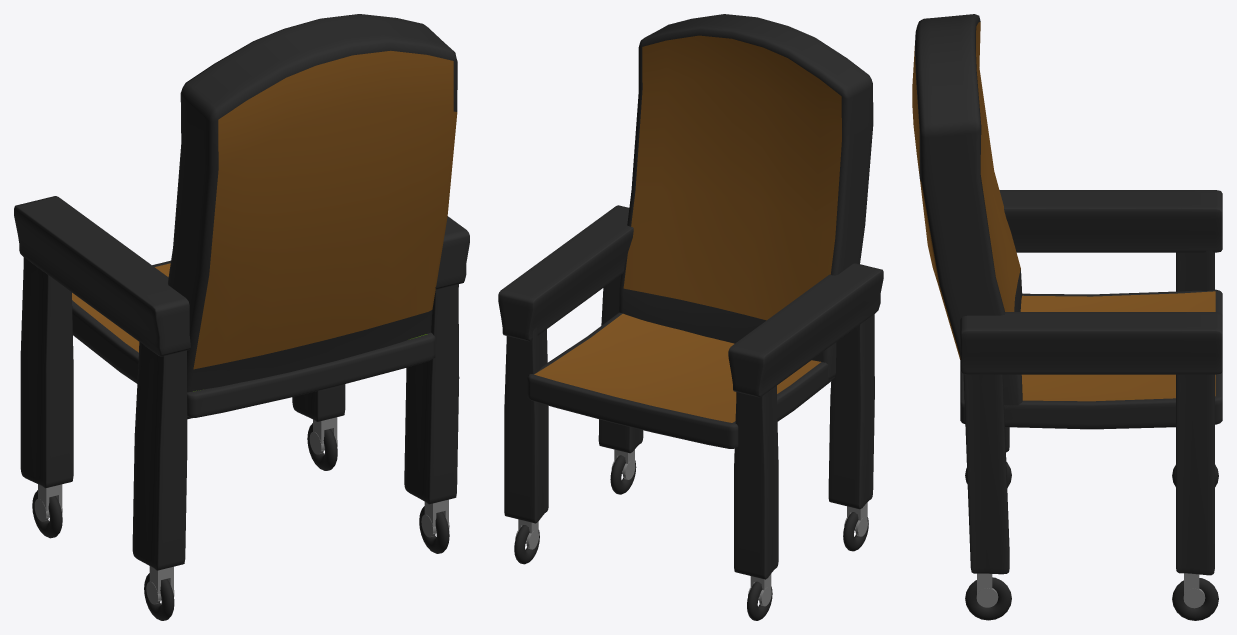
The model's file is Lobby Office chair.fbx.
The picture shows the model from 3 angles, left to right: view 1: azimuth 30°, elevation 25°; view 2: azimuth 150°, elevation 25°; view 3: azimuth 270°, elevation 25°; orthographic projection. The views are drawn at different scales.
Visible parts, largest first — view 1: Sofa_4, Sofa_5, Sofa_29, Sofa_26, Sofa_3, Sofa_28, Drugery_table_hio2 (×4), Sofa_2, Sofa_27; view 2: Sofa_4, Sofa_3, Sofa_5, Sofa_2, Sofa_26, Sofa_29, Sofa_27, Drugery_table_hio2 (×4), Sofa_28; view 3: Sofa_4, Sofa_2, Sofa_5, Sofa_3, Sofa_28, Sofa_27, Drugery_table_hio2 (×2), Sofa_26.
Boxes of the visible parts, bbox=[...] form: Sofa_4: bbox=[168, 14, 457, 419]; Sofa_5: bbox=[14, 196, 190, 356]; Sofa_29: bbox=[132, 342, 187, 570]; Sofa_26: bbox=[20, 257, 73, 488]; Sofa_3: bbox=[72, 260, 435, 417]; Sofa_28: bbox=[404, 284, 459, 504]; Drugery_table_hio2 (×4): bbox=[32, 423, 449, 620]; Sofa_2: bbox=[435, 216, 469, 289]; Sofa_27: bbox=[292, 384, 345, 421]; Sofa_4: bbox=[619, 14, 873, 379]; Sofa_3: bbox=[527, 312, 834, 448]; Sofa_5: bbox=[728, 263, 883, 397]; Sofa_2: bbox=[498, 205, 633, 341]; Sofa_26: bbox=[734, 385, 778, 579]; Sofa_29: bbox=[828, 314, 874, 509]; Sofa_27: bbox=[504, 327, 548, 523]; Drugery_table_hio2 (×4): bbox=[514, 455, 868, 620]; Sofa_28: bbox=[598, 275, 643, 453]; Sofa_4: bbox=[912, 14, 1022, 420]; Sofa_2: bbox=[960, 312, 1222, 374]; Sofa_5: bbox=[999, 190, 1222, 252]; Sofa_3: bbox=[960, 289, 1222, 429]; Sofa_28: bbox=[963, 374, 1009, 574]; Sofa_27: bbox=[1176, 374, 1214, 575]; Drugery_table_hio2 (×2): bbox=[965, 577, 1218, 620]; Sofa_26: bbox=[1176, 250, 1214, 291].
Bounding box in the file's own units: 37.58 × 64.92 × 34.91.
